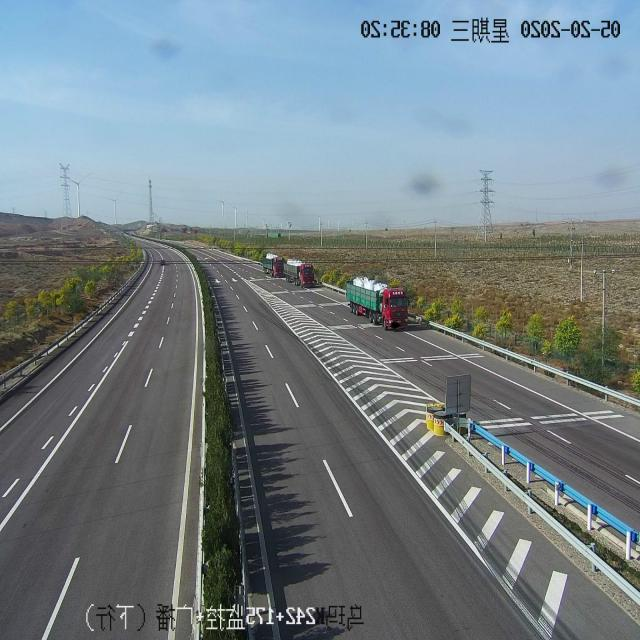point: (111, 213, 156, 252)
